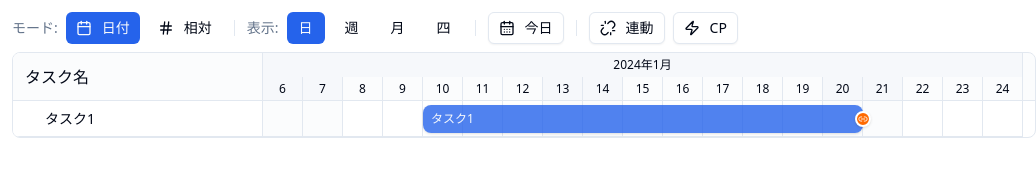
Test: GanttView › リサイズハンドル › タスクバーホバー時にリサイズハンドルが表示される
Step 1. Hover over the element with test id "gantt-task-bar-0" → coordinates (643, 119), box [423,105,863,133]
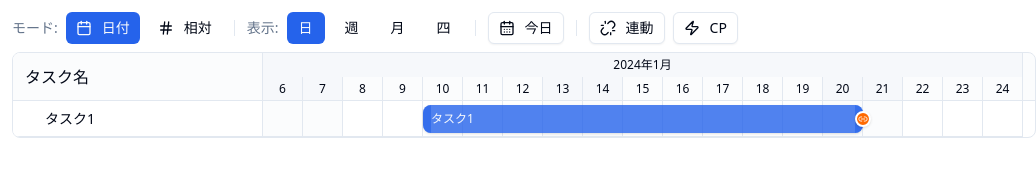
Now the element with test id "resize-handle-left-0" is shown, box [423,105,431,133]
Now the element with test id "resize-handle-right-0" is shown, box [855,105,863,133]
